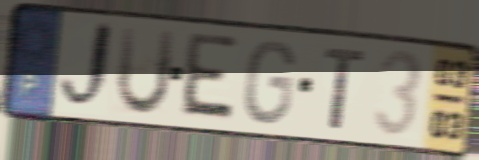3: (374, 47, 428, 141)
E: (176, 29, 241, 127)
G: (240, 38, 298, 128)
J: (57, 17, 116, 116)
T: (322, 44, 368, 133)
U: (113, 23, 178, 120)
